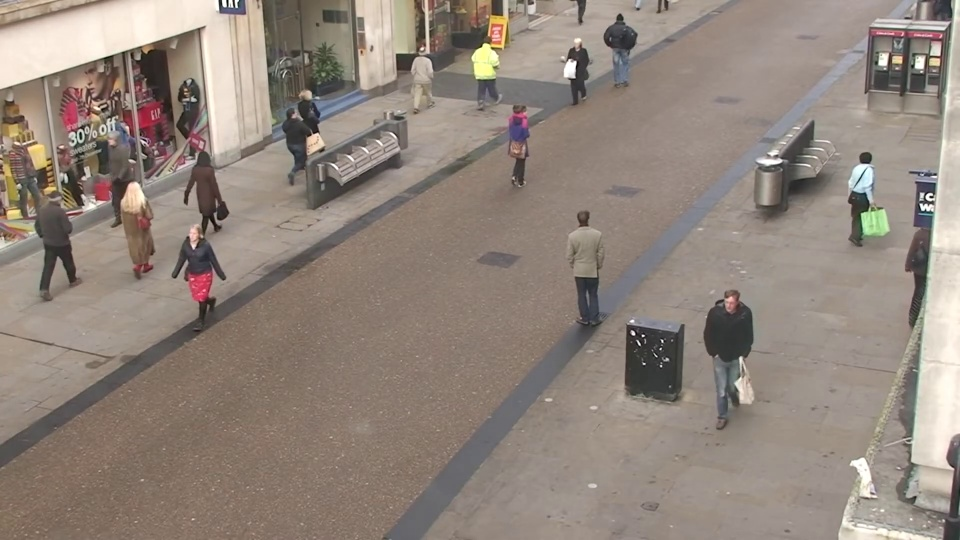pedestrian: (704, 288, 753, 430), (167, 222, 216, 344), (45, 178, 97, 288), (122, 170, 168, 277), (841, 146, 884, 251), (564, 203, 601, 324), (89, 129, 133, 226), (194, 144, 234, 245), (283, 98, 316, 188), (300, 85, 332, 171), (508, 97, 538, 188), (413, 40, 440, 115), (562, 38, 587, 112), (479, 31, 504, 103), (610, 10, 633, 77)
